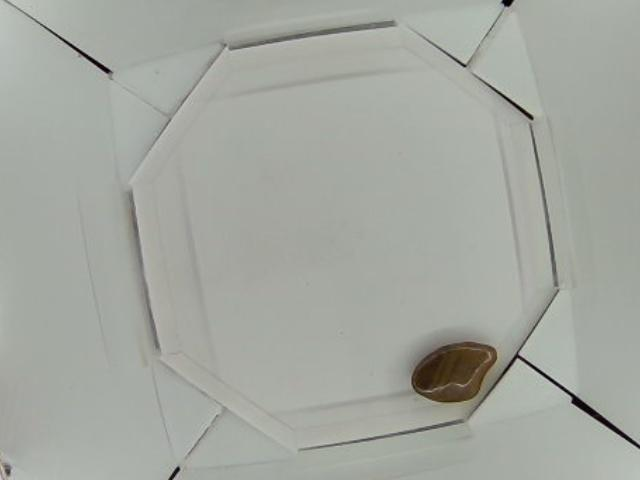Pebble: (410, 340, 496, 403)
